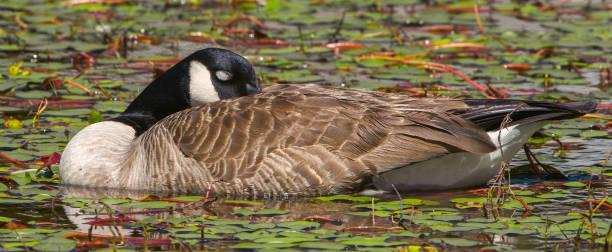Canadian-Goose: (58, 47, 593, 194)
